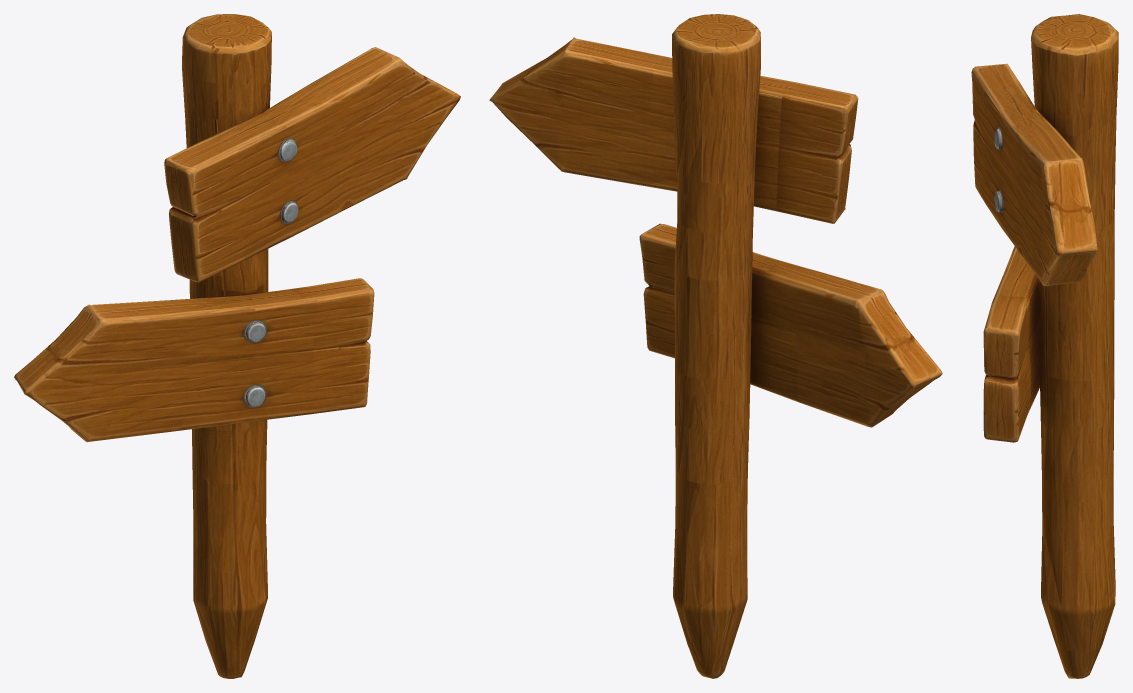
Rendered from signpost.glb.
The picture shows the model from 3 angles, left to right: view 1: azimuth 30°, elevation 25°; view 2: azimuth 150°, elevation 25°; view 3: azimuth 270°, elevation 25°; orthographic projection.
Size of the model in its own units: 0.7109 by 1 by 0.2075.
1 material, 1 textured.
